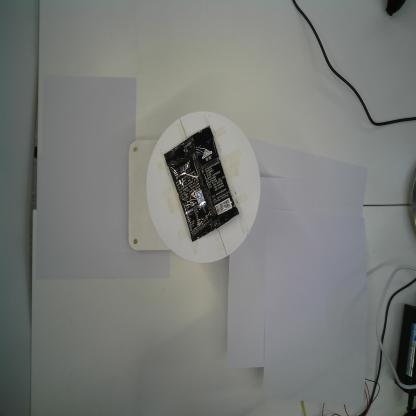Instant Drink: (163, 125, 240, 243)
